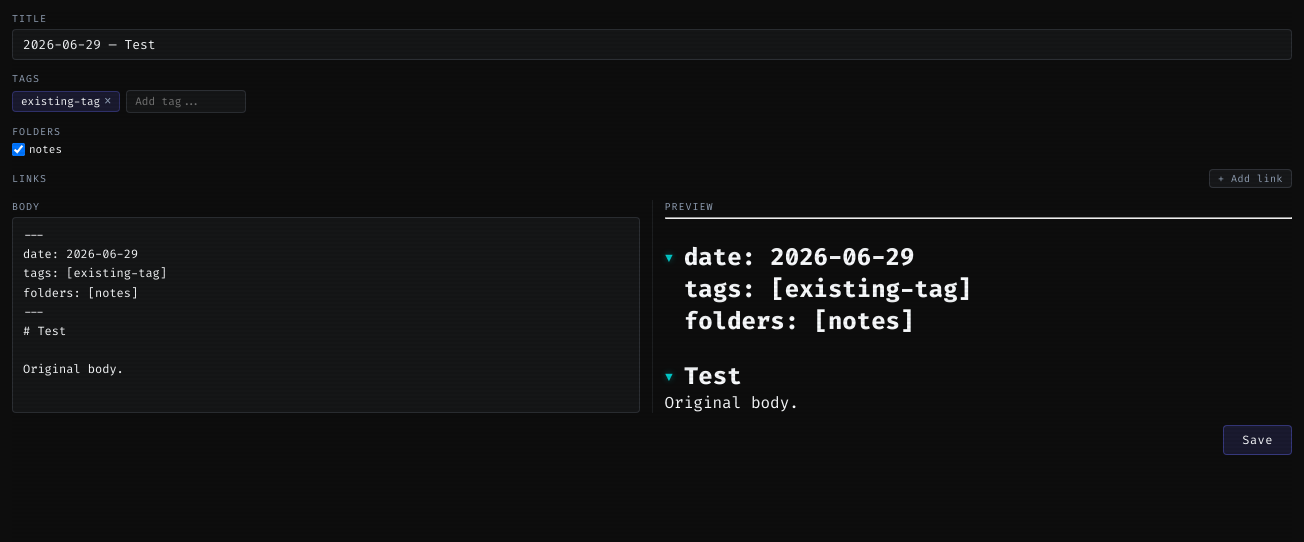
it: KnowledgeEditor — links › adding a link with an invalid URL prevents save and shows error
# Add a link row
Step 1. Click the button "+ Add link" → [1250, 178], box [1209,169,1292,188]
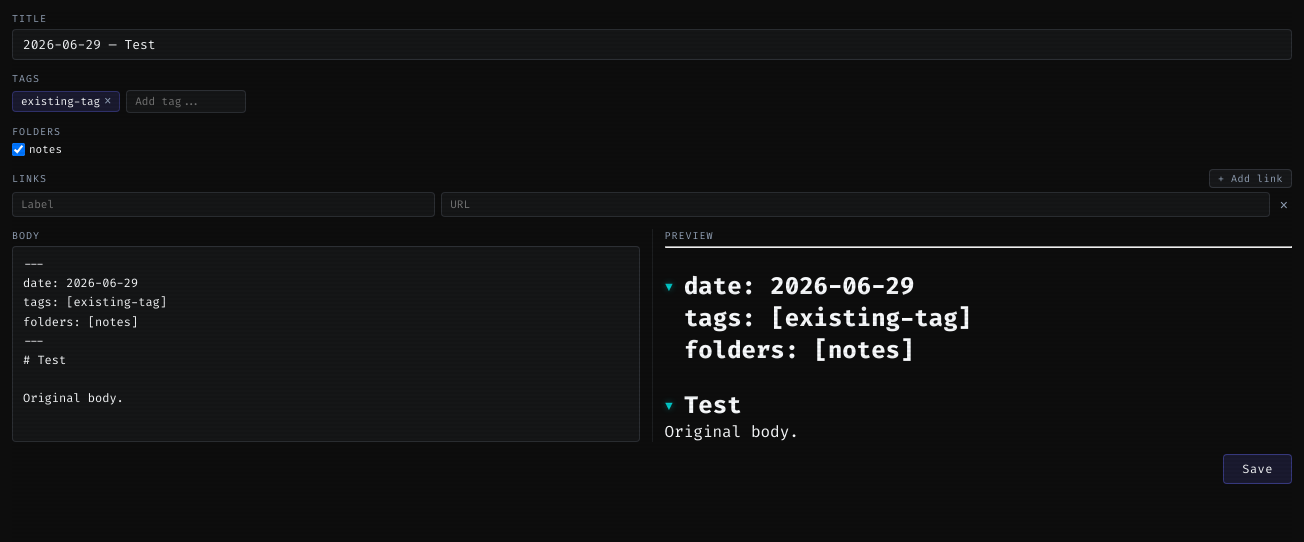
# fill in invalid url
Step 2. Type "not-a-url" into the field with placeholder "URL" → [856, 204], box [441,192,1270,217]
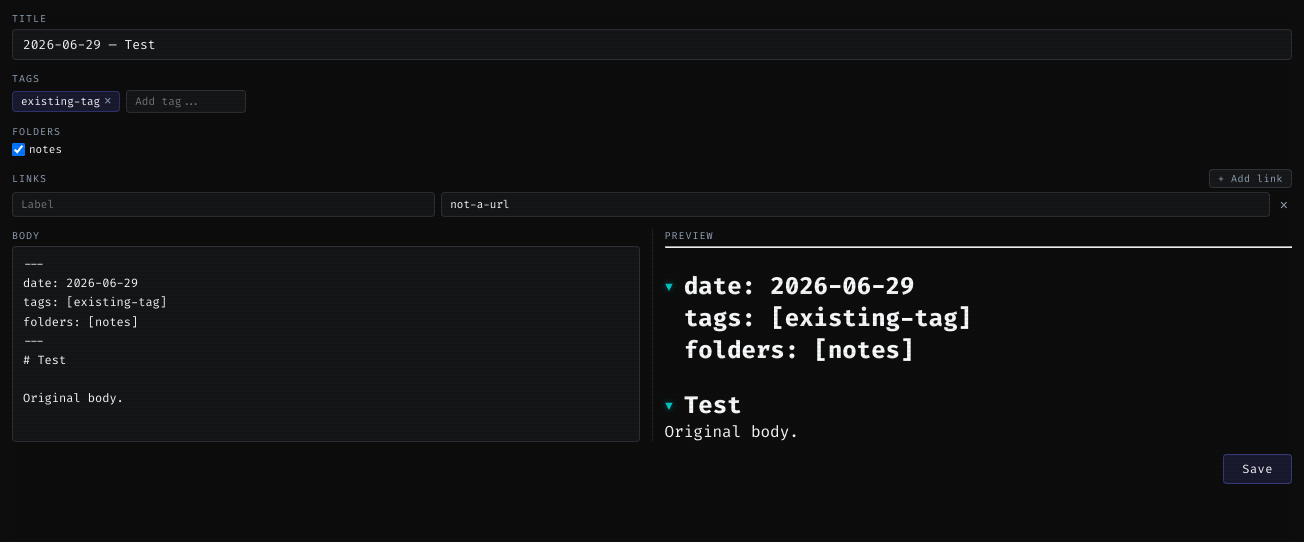
Step 3. Click the button "Save" → [1258, 469], box [1223,454,1292,484]
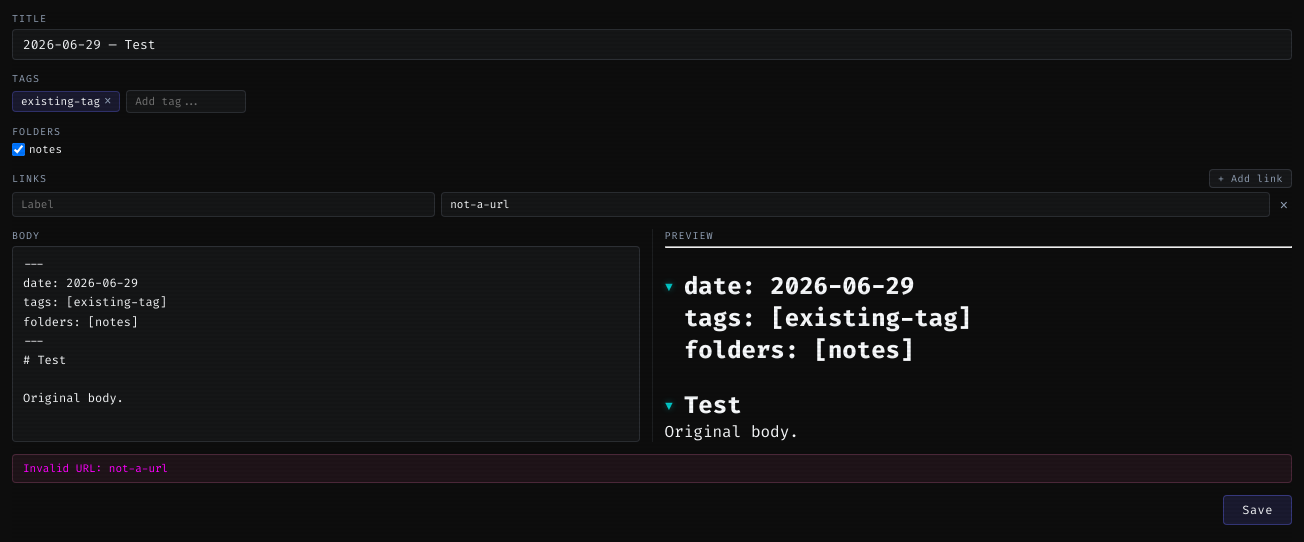
Result: the message "Invalid URL: not-a-url" is shown at [12,454,1292,483]
